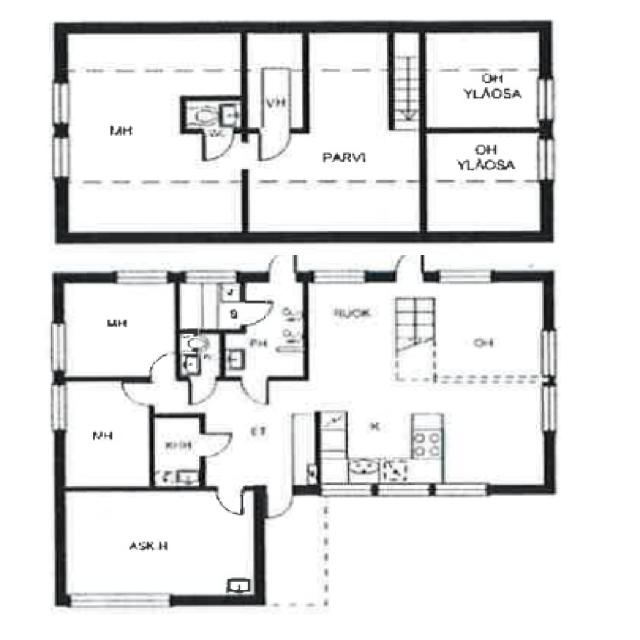door: (258, 128, 294, 162), (201, 128, 236, 162), (262, 486, 296, 521), (197, 430, 235, 459), (236, 299, 274, 328), (213, 486, 246, 518), (390, 252, 425, 282), (238, 374, 270, 406), (264, 252, 298, 282), (147, 351, 178, 382), (188, 374, 219, 405), (119, 380, 154, 407)
window: (69, 593, 171, 617), (429, 479, 495, 502), (535, 326, 561, 383), (537, 380, 561, 436), (47, 318, 69, 376), (48, 132, 73, 183), (48, 77, 72, 130), (433, 266, 496, 286), (307, 267, 370, 287), (48, 380, 70, 435), (109, 268, 172, 287), (534, 74, 557, 126), (375, 481, 435, 500), (535, 136, 557, 186), (316, 482, 376, 500), (182, 268, 240, 286)
zone: (60, 29, 244, 237), (245, 28, 422, 236), (308, 276, 440, 487), (58, 488, 260, 601), (442, 280, 545, 488), (423, 131, 544, 235), (423, 31, 543, 132), (59, 280, 177, 380), (60, 380, 151, 489), (231, 278, 306, 378), (247, 33, 306, 133), (151, 414, 202, 488), (177, 280, 244, 332), (177, 331, 223, 377), (182, 99, 244, 131)
